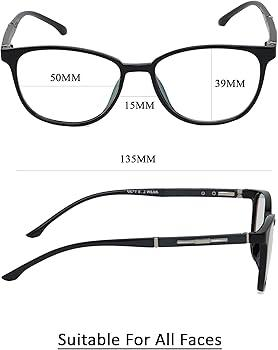spectacles: (0, 39, 272, 128)
